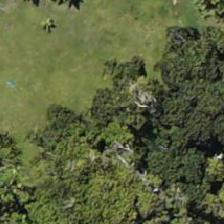coconut_tree: (1, 0, 91, 70)
